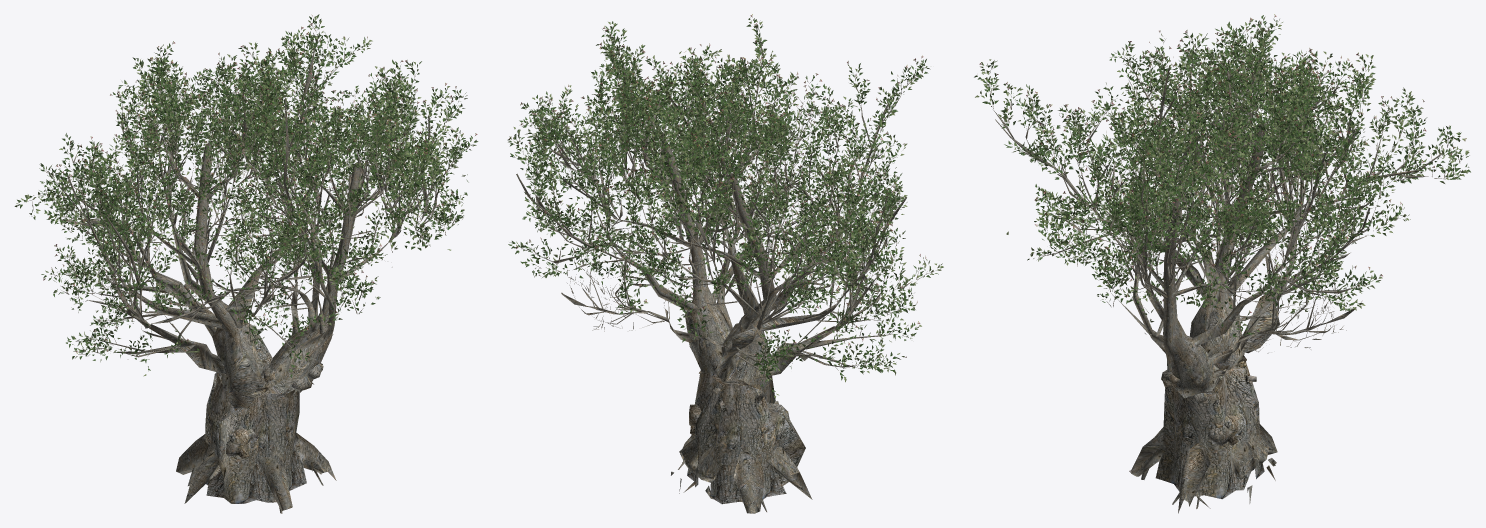
3 renders of one model, left to right at view 1: azimuth 30°, elevation 25°; view 2: azimuth 150°, elevation 25°; view 3: azimuth 270°, elevation 25°, orthographic. The views are drawn at different scales.
Parts seen in each view (by area): view 1: Olive_tree_0; view 2: Olive_tree_0; view 3: Olive_tree_0.
Boxes of the visible parts, x1,y1,x2,y2 form: Olive_tree_0: (14,14,478,513); Olive_tree_0: (507,14,943,513); Olive_tree_0: (974,14,1470,513).
Size of the model in its own units: 10.75 by 11.68 by 11.53.
Materials: 5 (5 with a texture image).
